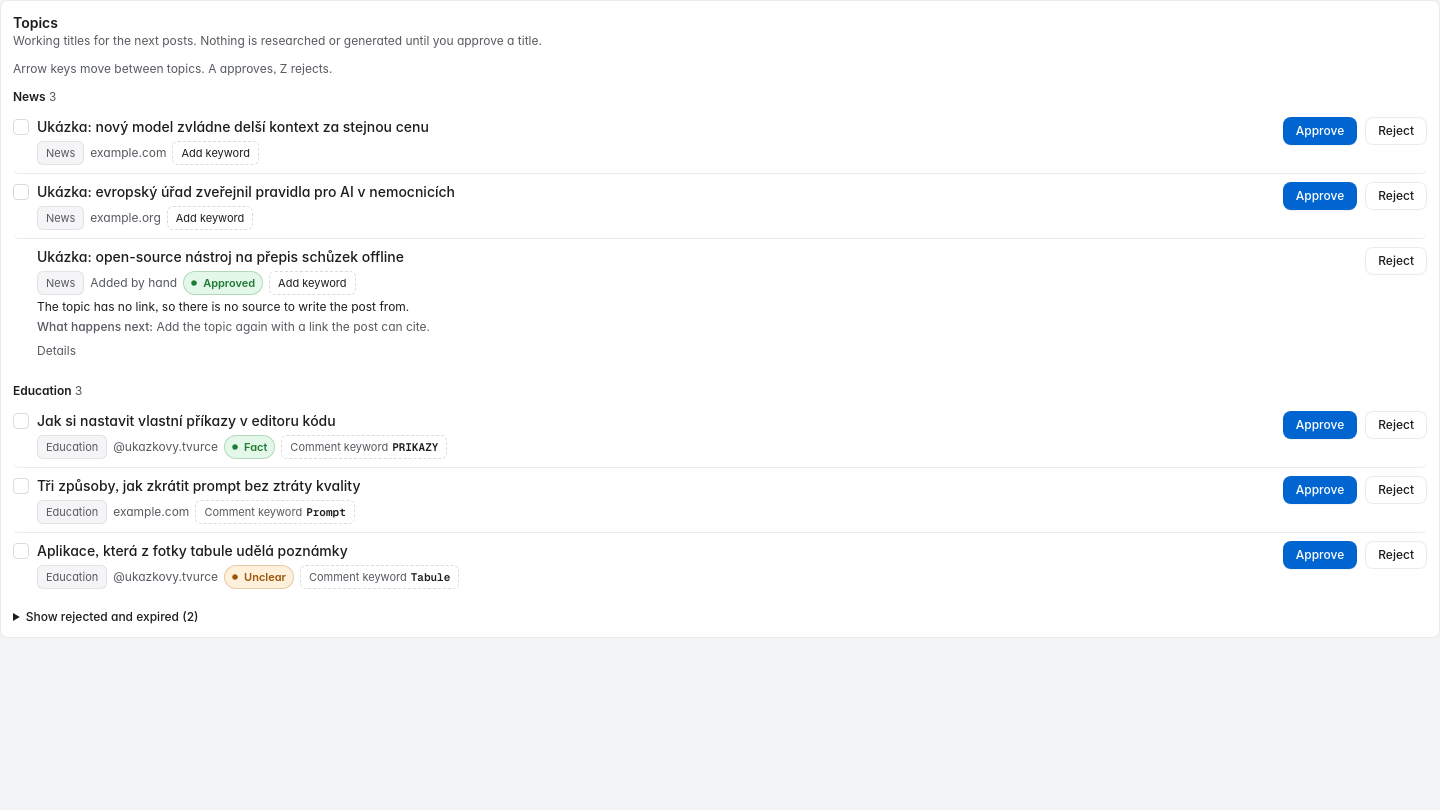
it: DNESKAi topics list (#154) › rolls back and says so when the action fails
This screenshot has width=1440, height=810.
Click the 1st button "Approve" at (1320, 131), box [1283,117,1357,145]
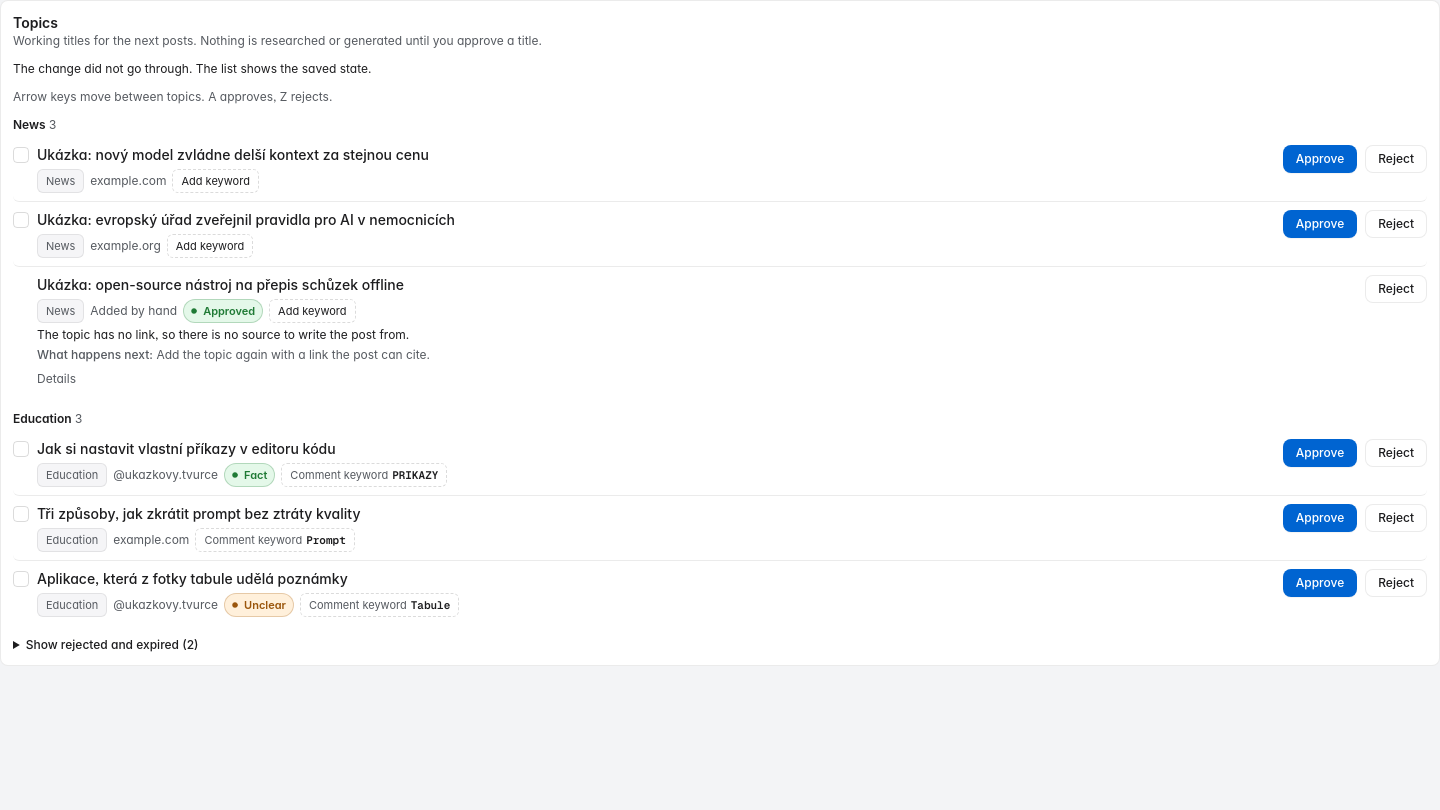
Now the text "The change did not go through. The list shows the saved state." is shown, box [13,61,371,76]
